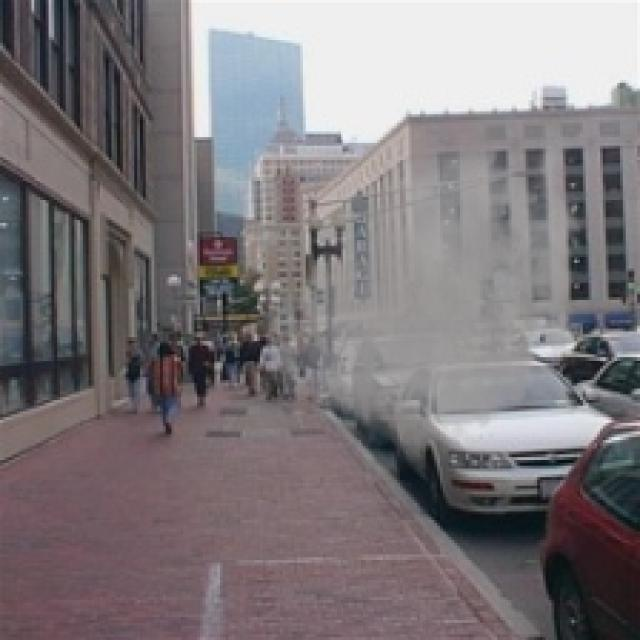Smoke: (254, 114, 597, 472)
